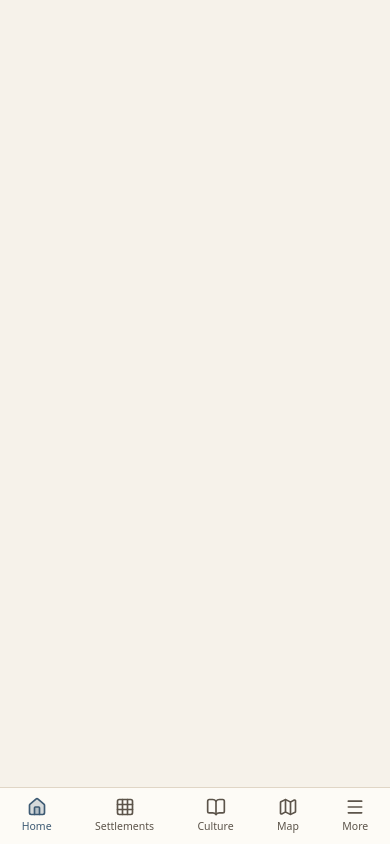
Scenario: MobileBottomNav › More › closes on Escape
Step 1. Click the button with aria-label "Open menu" → (355, 816), box 330,789 -> 380,843
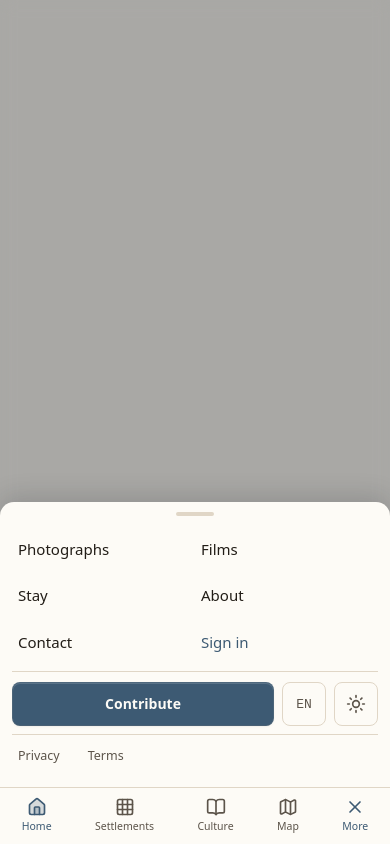
Step 2. Press Escape
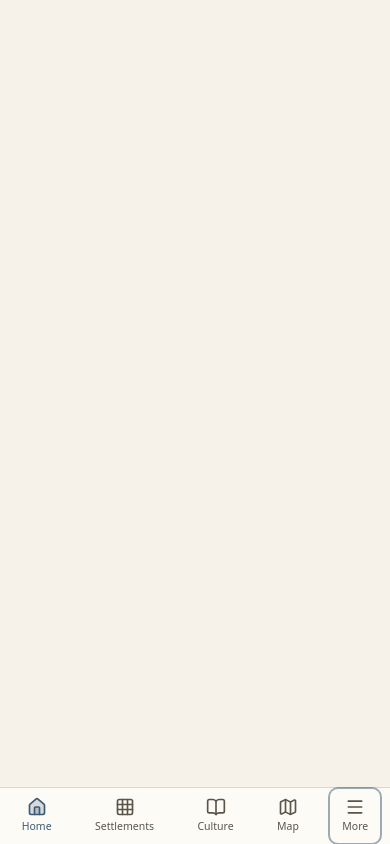
expect the dialog is gone: met
